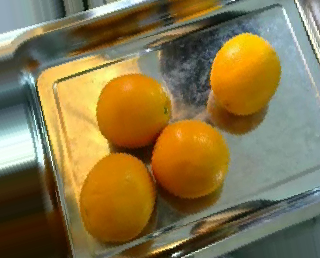Orange: (79, 153, 156, 243), (151, 119, 229, 199), (209, 33, 282, 116), (94, 74, 173, 148)
